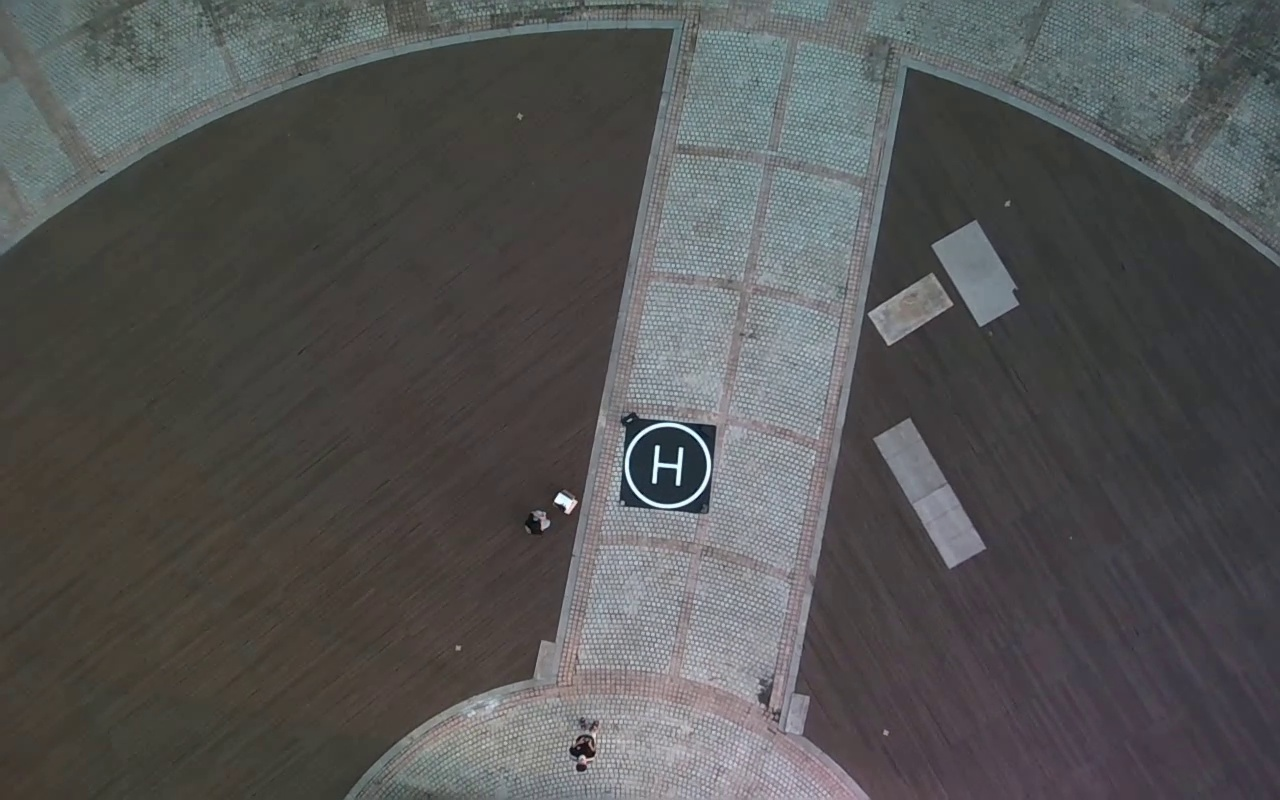H: (651, 447, 683, 485)
heliport: (625, 424, 711, 508)
